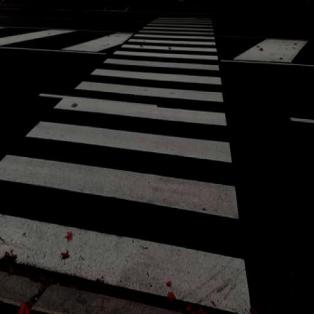Paso de Cebra: (16, 94, 247, 166), (100, 49, 223, 71), (139, 27, 218, 34)
